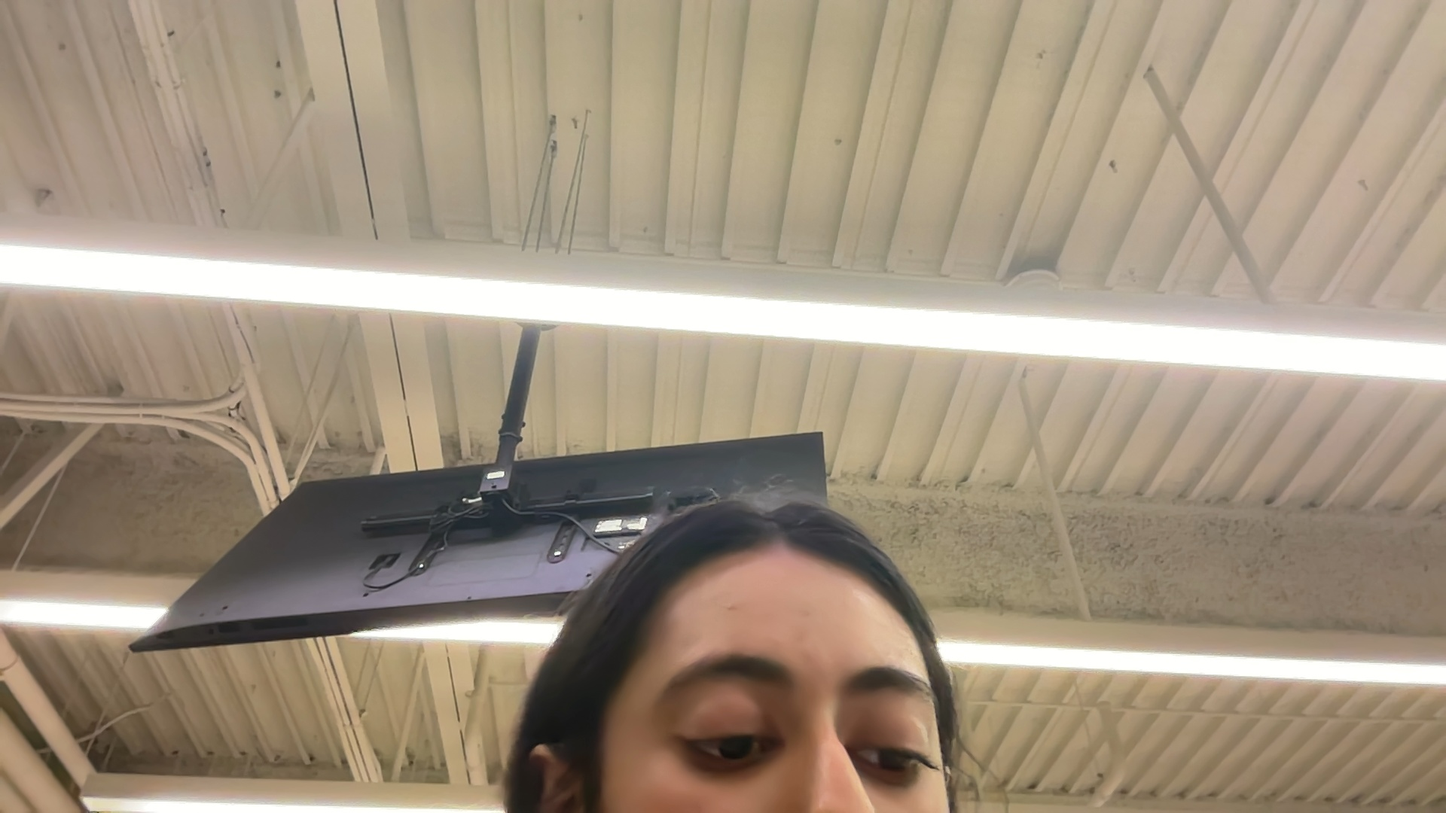Plastic: (0, 239, 1069, 806)
